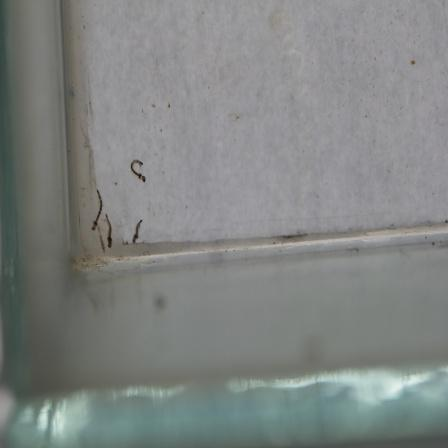Jentik-Nyamuk: (88, 185, 105, 233), (127, 155, 149, 186), (129, 216, 145, 244)
